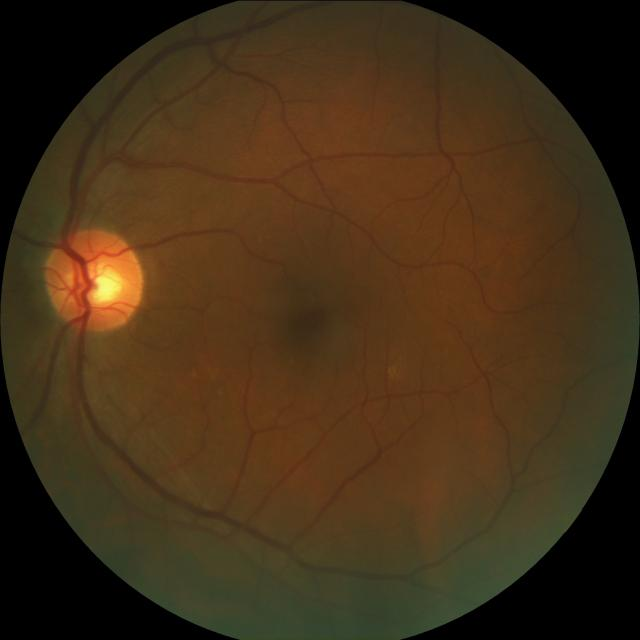OC: (71, 259, 121, 307)
OD: (43, 226, 142, 332)
